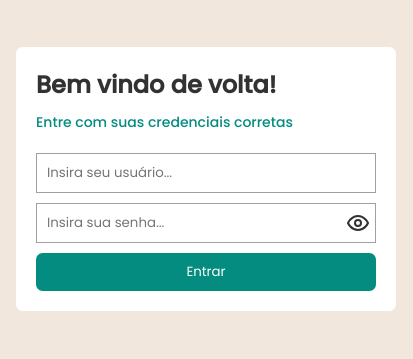
Test: SignIn › should be return an error message for length username
Type "e" into the field with placeholder "Insira seu usuário..." at [206, 173], box x1=42 y1=154 x2=370 y2=192
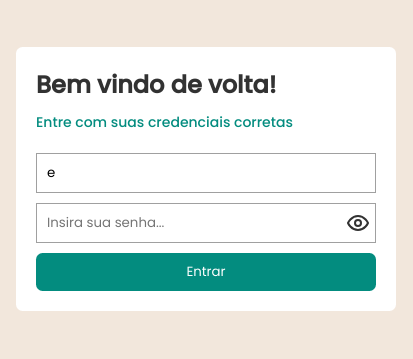
Submit the form from the button with test id "button", box x1=36 y1=253 x2=376 y2=291
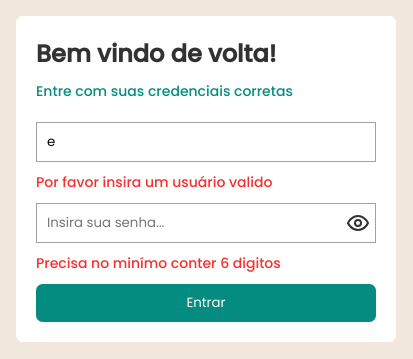
expect the text "Por favor insira um usuário valido" is shown: met, box x1=36 y1=172 x2=272 y2=192
